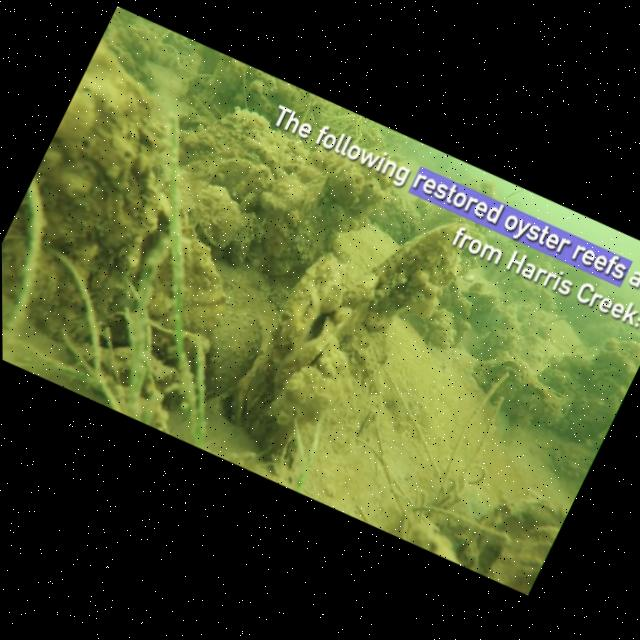Oyster-Closed: (218, 247, 374, 448), (234, 186, 267, 223)
Oyster-Indeterminate: (0, 39, 236, 349), (101, 204, 259, 375), (361, 200, 478, 341), (169, 287, 277, 414), (173, 175, 269, 276), (471, 498, 562, 600), (312, 162, 407, 257), (500, 474, 574, 549), (503, 364, 578, 434), (467, 495, 532, 566), (442, 270, 517, 331), (270, 208, 337, 275), (197, 49, 261, 112), (121, 20, 178, 75), (250, 185, 302, 230)
Oyster-Open: (470, 345, 547, 424)
